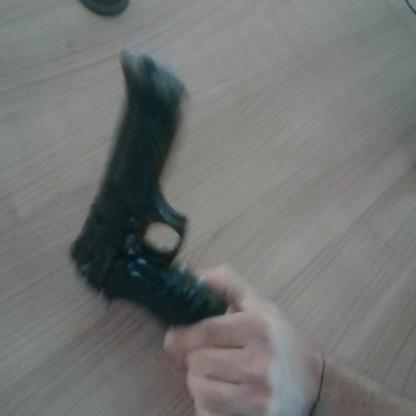handgun: (66, 47, 248, 337)
